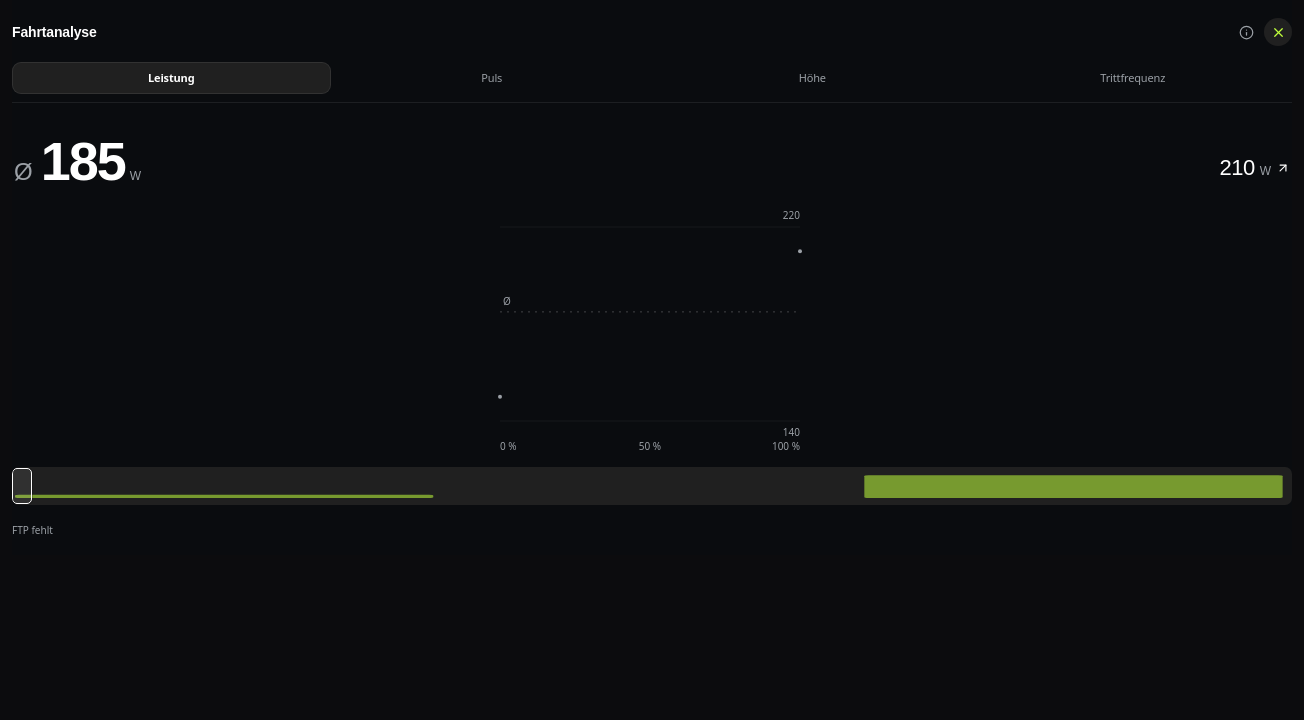
it: does not draw an absent channel or another rides telemetry
The image size is (1304, 720).
Later steps or results of the test are not shown.
Click the button "Trittfrequenz" at (1133, 78), box [974, 62, 1292, 94]
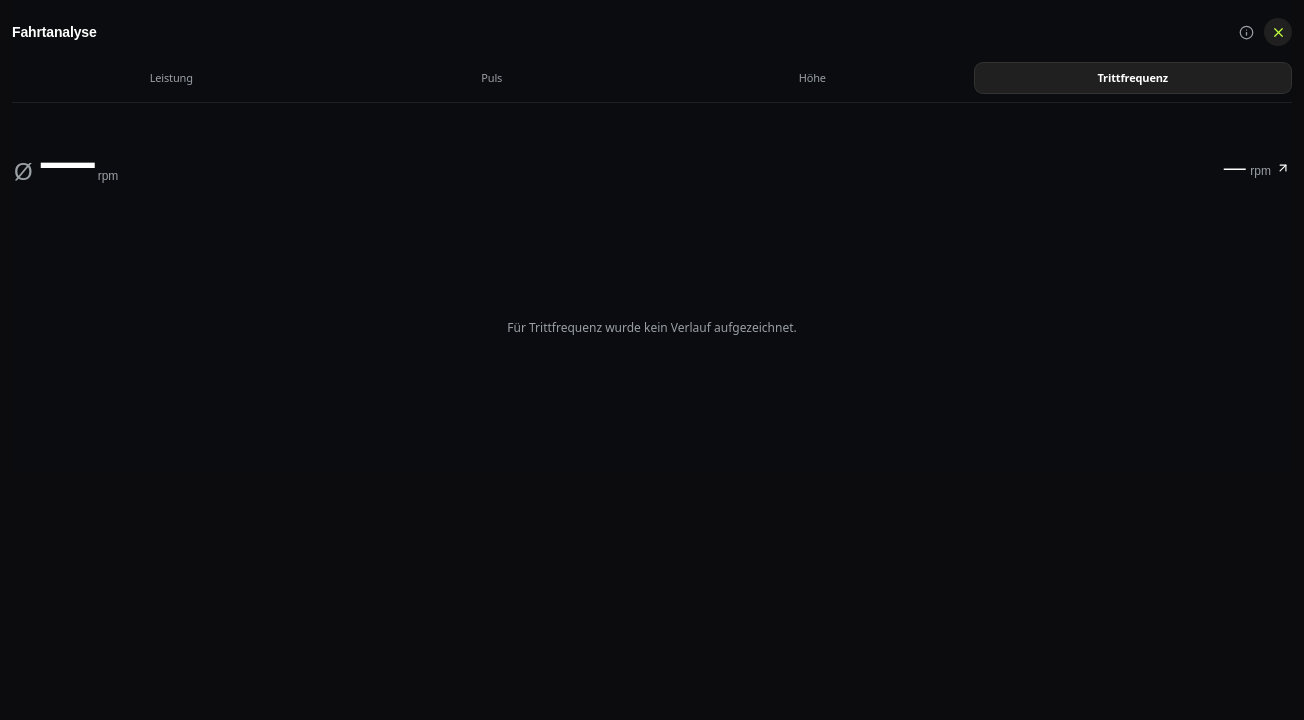
Check: the picture is gone
Check: the slider is gone
